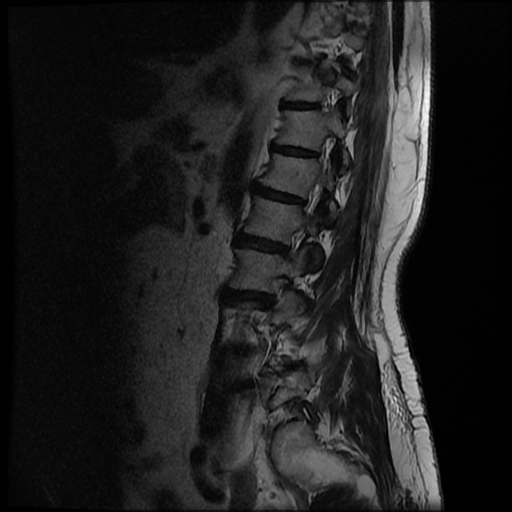LFS0: (274, 222, 313, 264)
